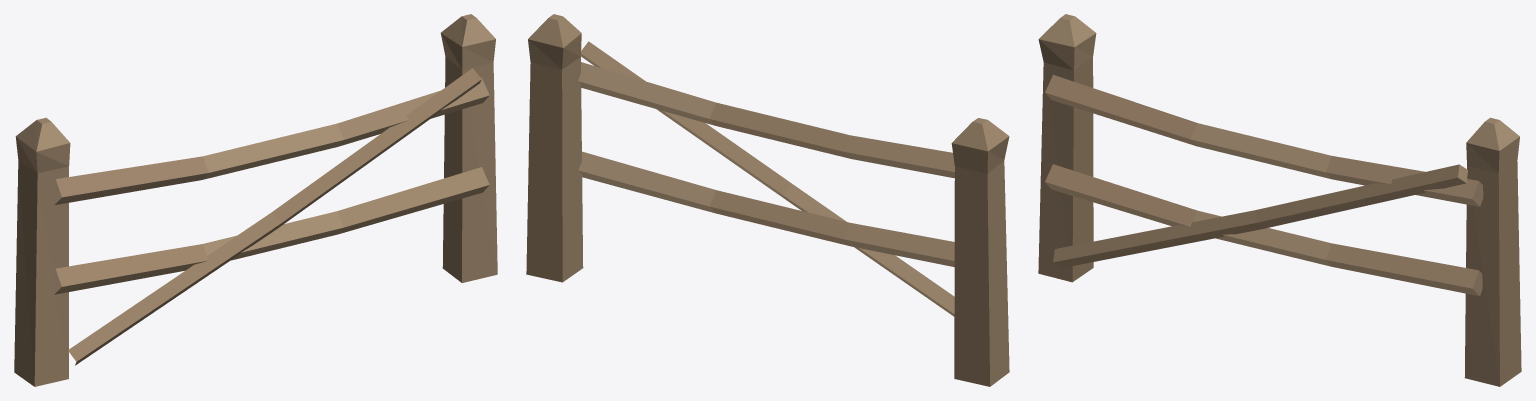
Rendered from pilot_fence.glb.
3 views of the same model, side by side, from view 1: azimuth 30°, elevation 25°; view 2: azimuth 150°, elevation 25°; view 3: azimuth 330°, elevation 25° (orthographic).
Parts seen in each view (by area): view 1: pilot_fence; view 2: pilot_fence; view 3: pilot_fence.
Boxes of the visible parts, box(x1,y1,x2,y2) form: pilot_fence: box(14, 14, 497, 386); pilot_fence: box(526, 14, 1009, 386); pilot_fence: box(1038, 14, 1521, 386).
Bounding box in the file's own units: 2.06 × 1.08 × 0.2721.
